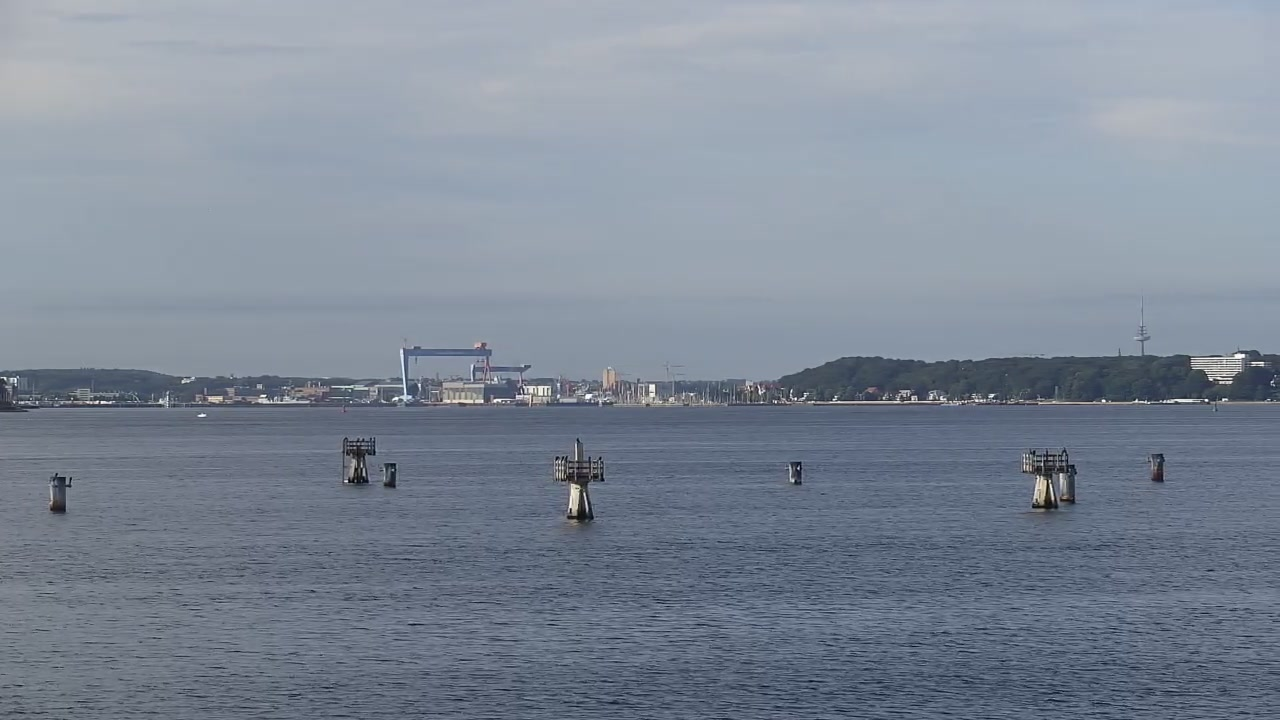sea: (196, 412, 208, 419)
